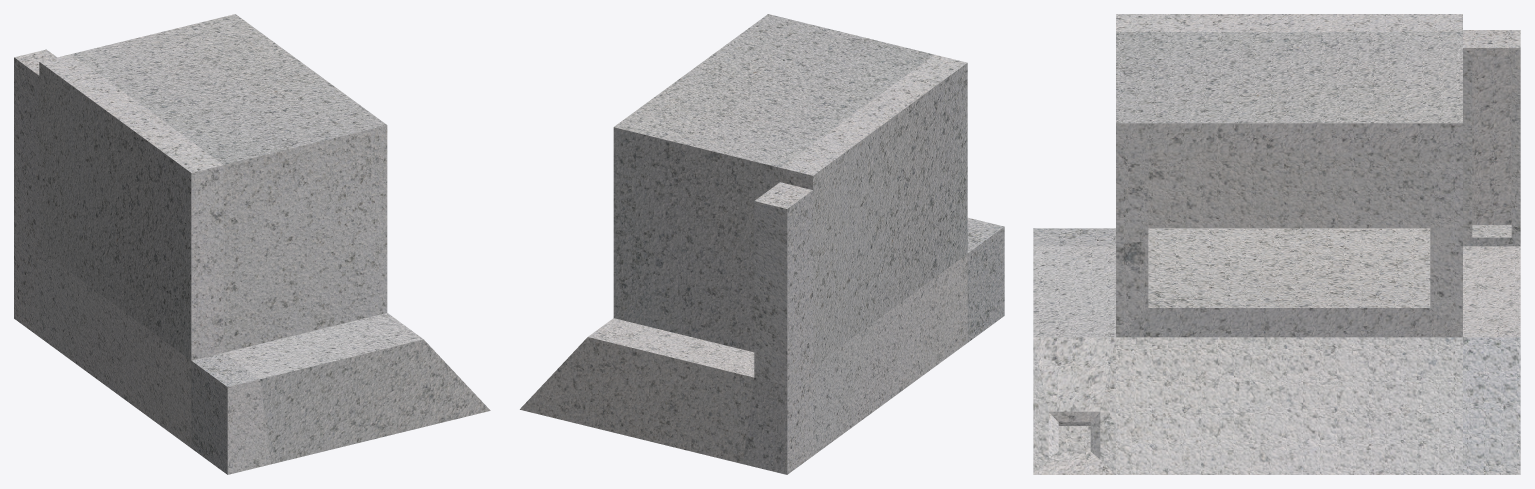
File: maquina.fbx
The picture shows the model from 3 angles, left to right: view 1: azimuth 30°, elevation 25°; view 2: azimuth 150°, elevation 25°; view 3: azimuth 270°, elevation 25°; orthographic projection. The views are drawn at different scales.
Parts seen in each view (by area): view 1: Máquina; view 2: Máquina; view 3: Máquina.
Boxes of the visible parts, x1,y1,x2,y2 form: Máquina: [14, 14, 490, 474]; Máquina: [520, 14, 1004, 474]; Máquina: [1033, 14, 1520, 474].
Bounding box in the file's own units: 651 × 651 × 915.
